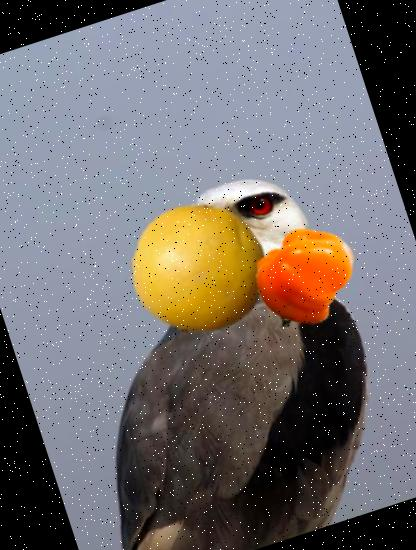Grapefruit: (112, 182, 286, 356)
Pepper: (240, 213, 369, 342)
